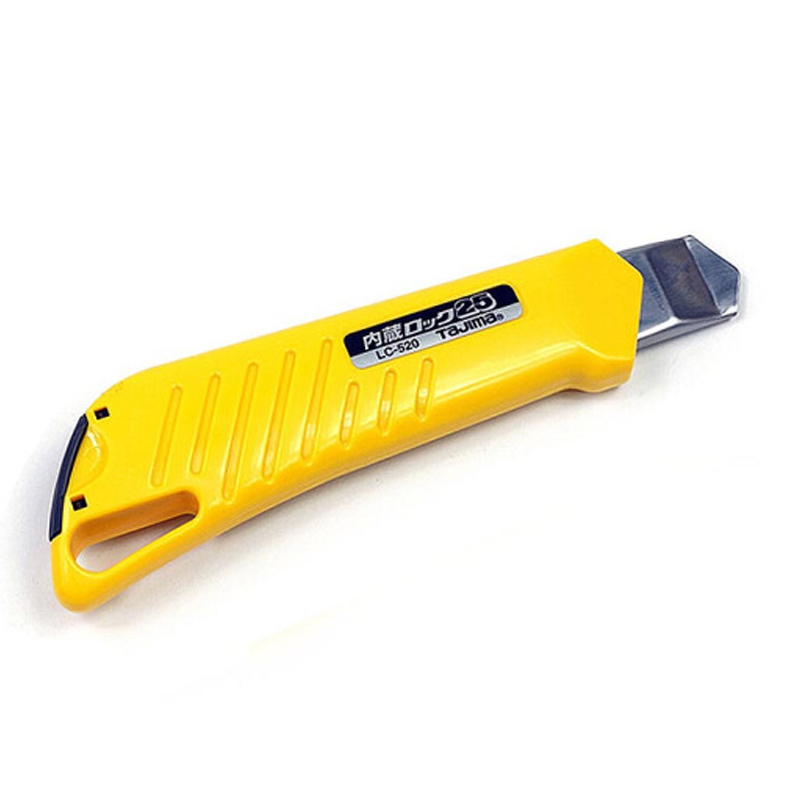cutter: (47, 234, 741, 616)
